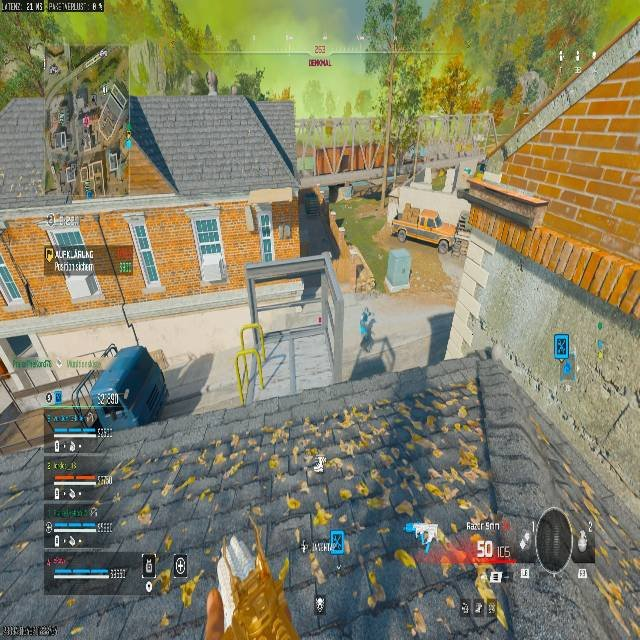head: (361, 308, 370, 318)
player: (359, 308, 377, 353), (205, 70, 218, 94)
